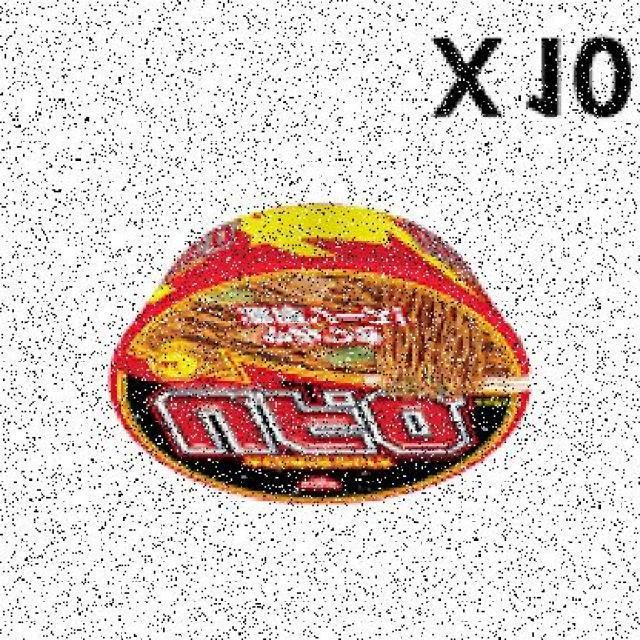Miscellaneous: (113, 202, 544, 508)
